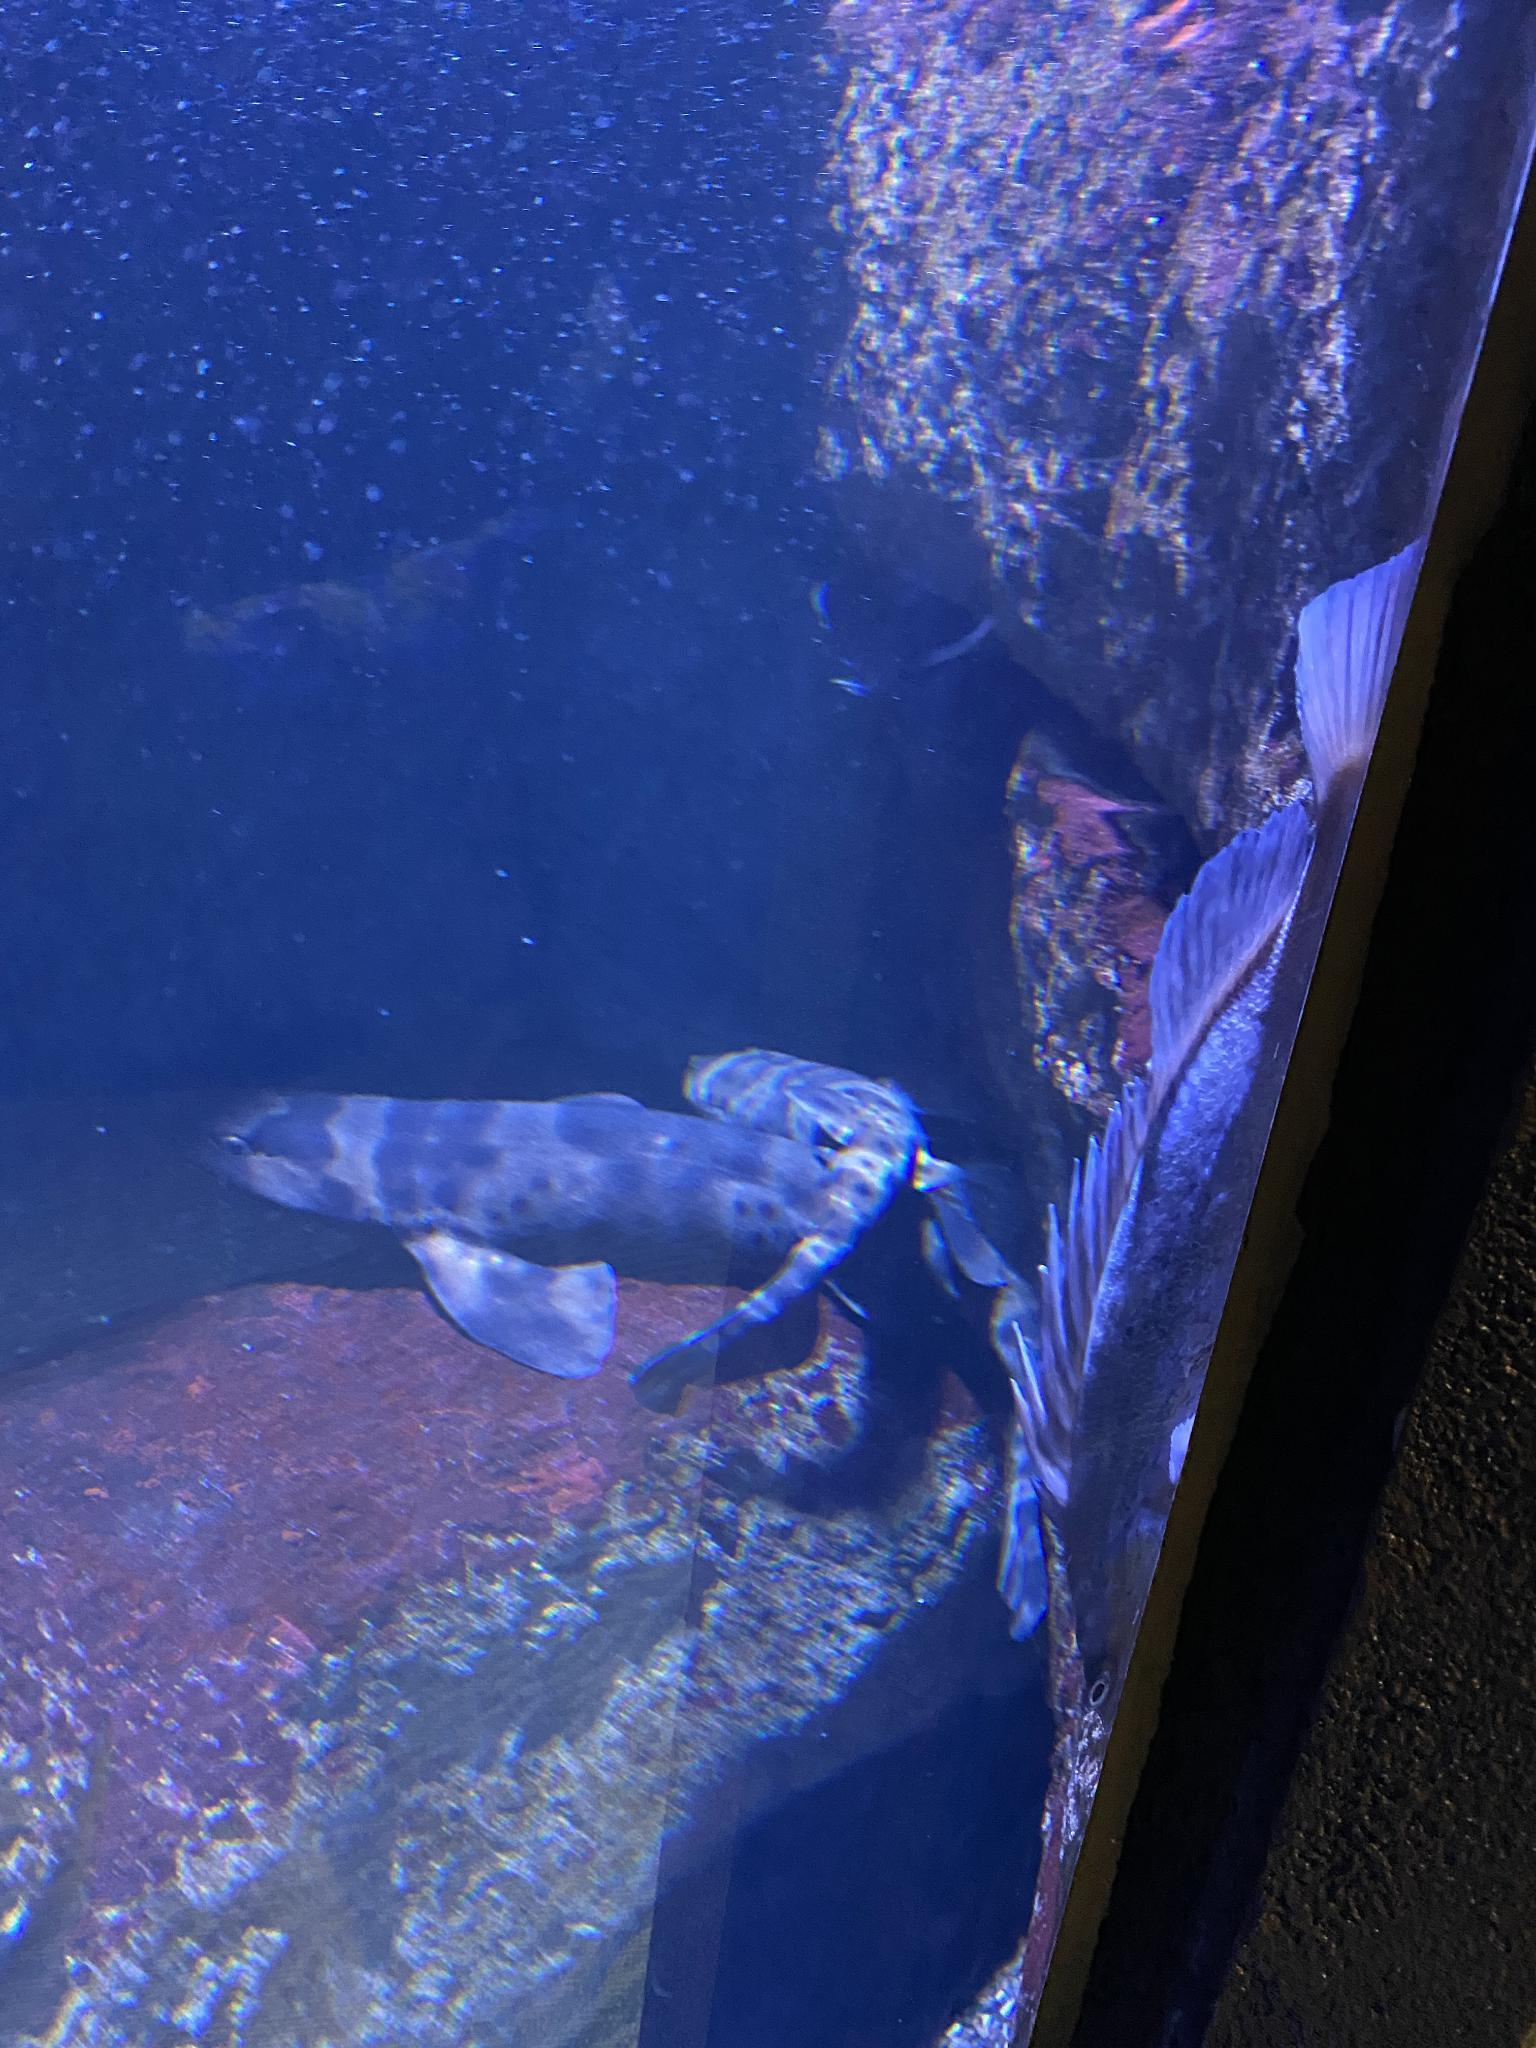fish: (1016, 547, 1433, 1692)
shark: (190, 1092, 918, 1403), (682, 1050, 1054, 1637)
